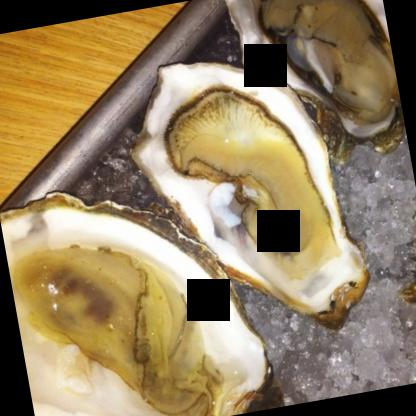oyster: (130, 35, 374, 342), (0, 164, 276, 415), (235, 0, 407, 167)
